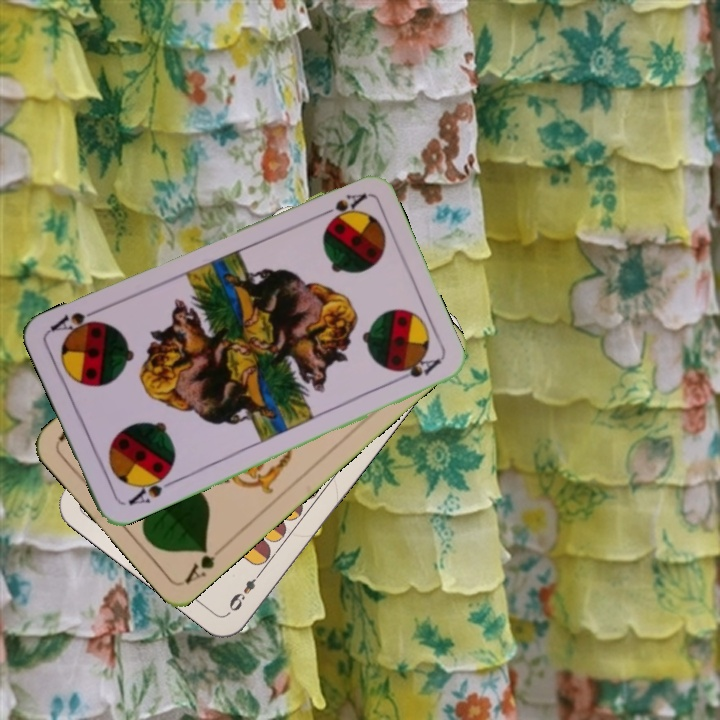E9: (224, 566, 266, 614)
GA: (181, 542, 218, 587)
SA: (124, 468, 177, 509), (313, 189, 369, 226)
